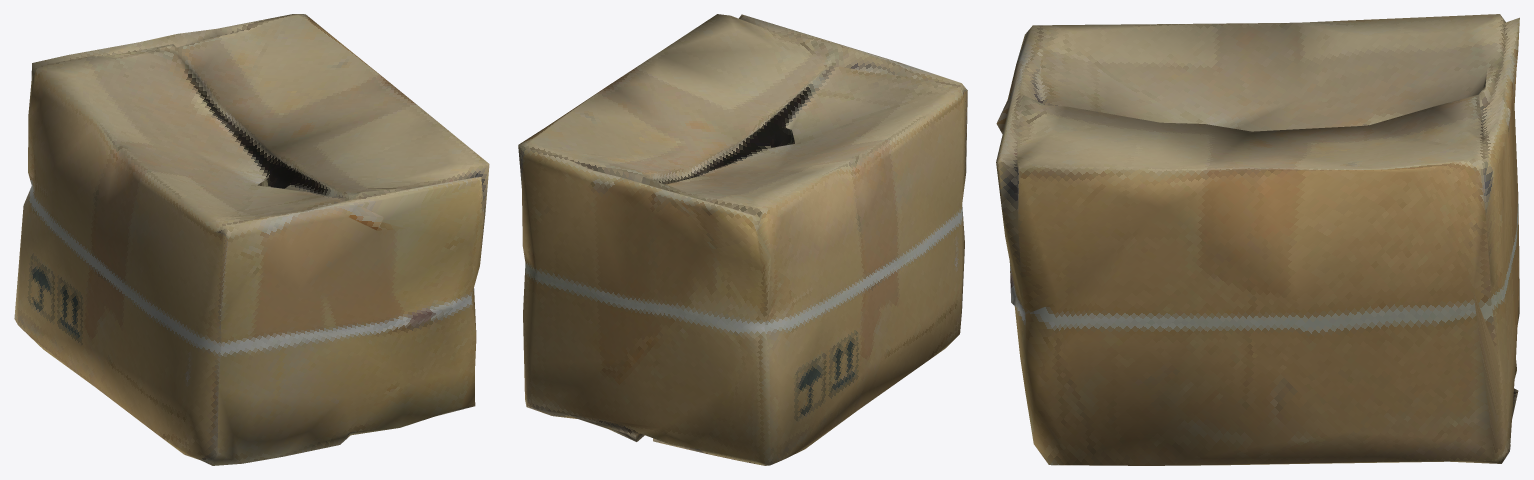
3 views of the same model, side by side, from view 1: azimuth 30°, elevation 25°; view 2: azimuth 150°, elevation 25°; view 3: azimuth 270°, elevation 25° (orthographic). The views are drawn at different scales.
Visible parts, largest first — view 1: box; view 2: box; view 3: box.
Boxes of the visible parts, x1,y1,x2,y2 form: box: (14,14,489,465); box: (518,14,967,465); box: (996,14,1519,465).
Bounding box in the file's own units: 0.5453 × 0.4763 × 0.7204.
1 material, 1 textured.
